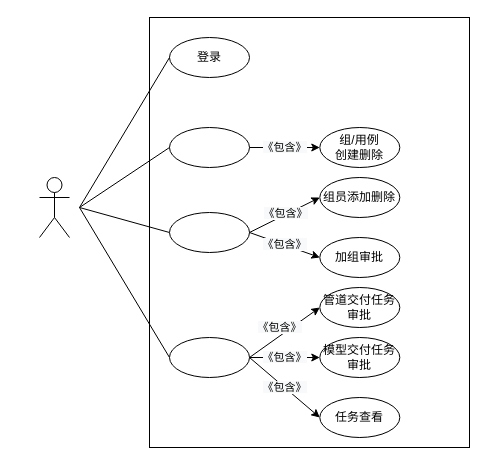
The diagram is 487 pixels wide and 465 high, and some of its shapes have lost their labels. The shapes that lost their labels are listed below. From the top down, each one's box as (x1, y1, x2, y2) in pixels, then its label:
(168, 126, 250, 168): 组/用例管理
(38, 176, 70, 238): 管理/审核人员
(168, 212, 250, 252): 人员管理
(168, 336, 250, 378): 进度管理
